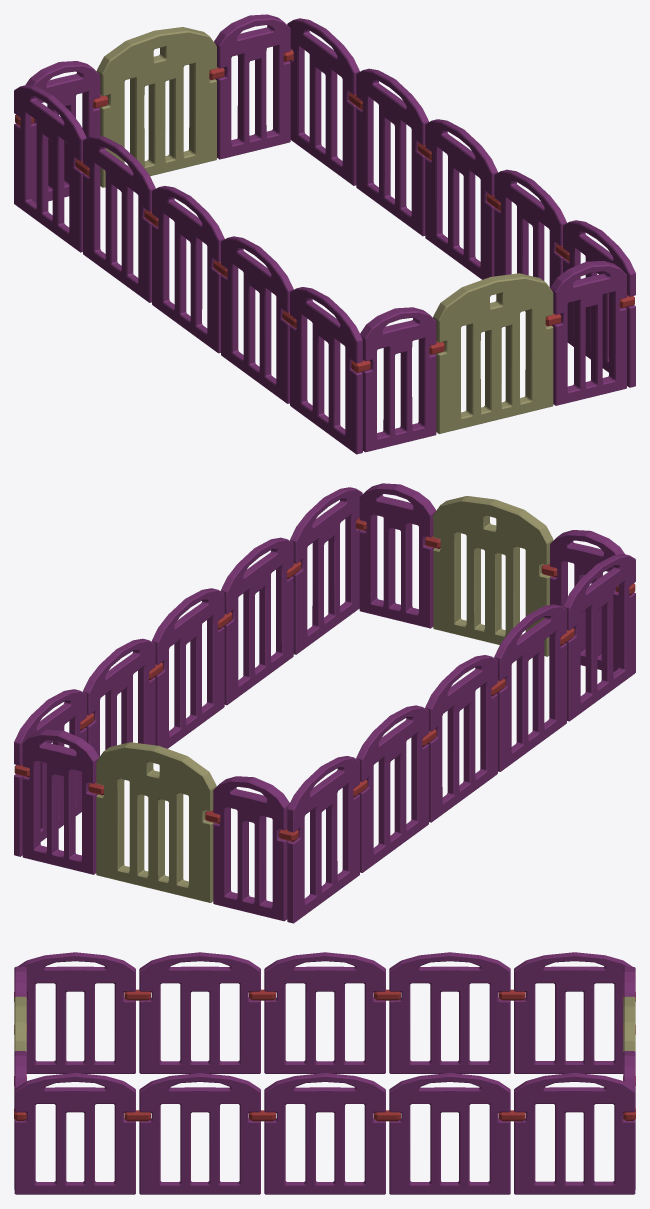
The model's file is babycicle.fbx.
The picture shows the model from 3 angles, top to bottom: view 1: azimuth 30°, elevation 25°; view 2: azimuth 150°, elevation 25°; view 3: azimuth 270°, elevation 25°; orthographic projection. The views are drawn at different scales.
Parts seen in each view (by area): view 1: around_wall, door, connection; view 2: around_wall, door, connection; view 3: around_wall, connection, door.
Boxes of the visible parts, box(x1,y1,x2,y2) form: around_wall: box(14, 14, 635, 454); door: box(96, 27, 553, 433); connection: box(15, 49, 634, 372); around_wall: box(14, 483, 635, 923); door: box(96, 496, 553, 902); connection: box(14, 518, 635, 841); around_wall: box(14, 952, 635, 1194); connection: box(14, 989, 635, 1121); door: box(14, 996, 635, 1051).
Bounding box in the file's own units: 9.37 × 4.45 × 19.84.
